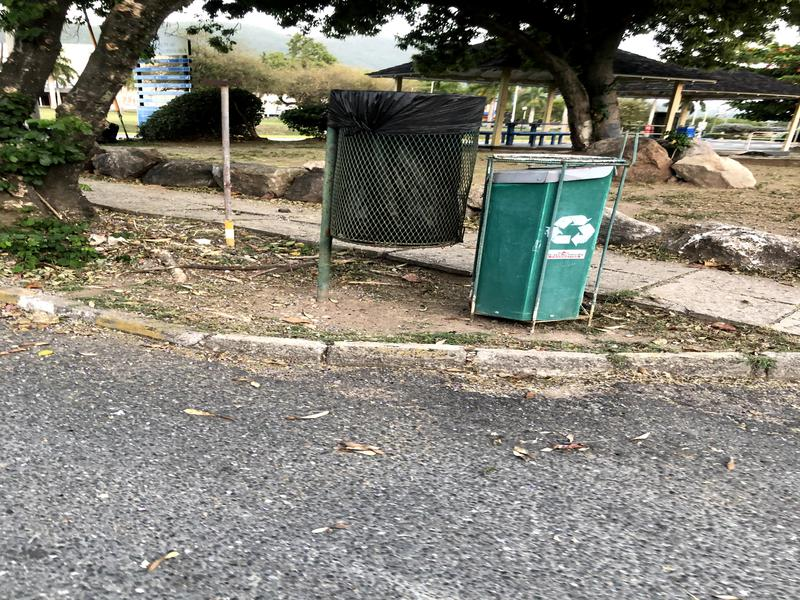18.0053245_-76.7486424_recyclebin: (485, 141, 610, 332)
